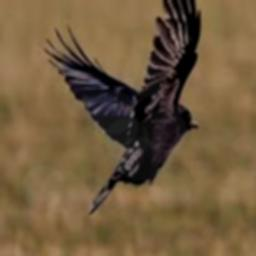Crow: (42, 0, 200, 212)
